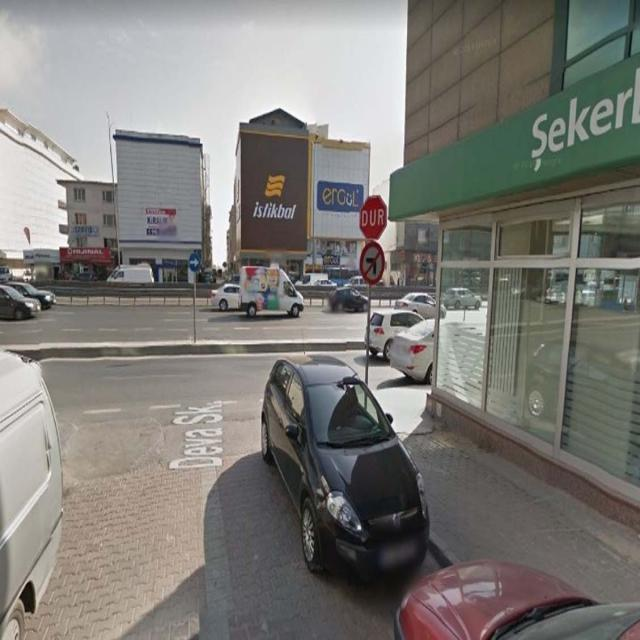dur: (359, 196, 387, 240)
sag: (189, 253, 200, 271)
soladonulmez: (360, 242, 385, 287)
